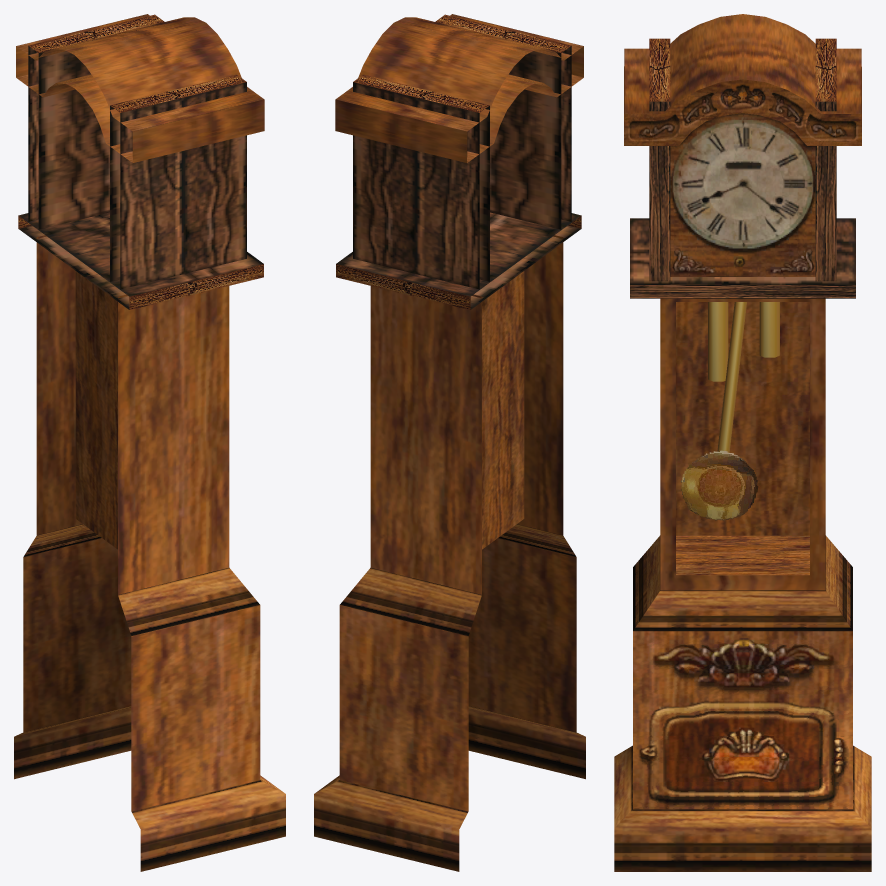
File: INST_LT_GRANCLOCK.fbx
3 renders of one model, left to right at view 1: azimuth 30°, elevation 25°; view 2: azimuth 150°, elevation 25°; view 3: azimuth 270°, elevation 25°, orthographic.
Visible parts, largest first — view 1: INST_LT_GRANCLOCK; view 2: INST_LT_GRANCLOCK; view 3: INST_LT_GRANCLOCK.
Part boxes in pixels (x1,y1,x2,y2): INST_LT_GRANCLOCK: [14, 14, 285, 871]; INST_LT_GRANCLOCK: [314, 14, 585, 871]; INST_LT_GRANCLOCK: [614, 14, 871, 871].
Size of the model in its own units: 3843 by 19050 by 5670.
Materials: 8 (8 with a texture image).
